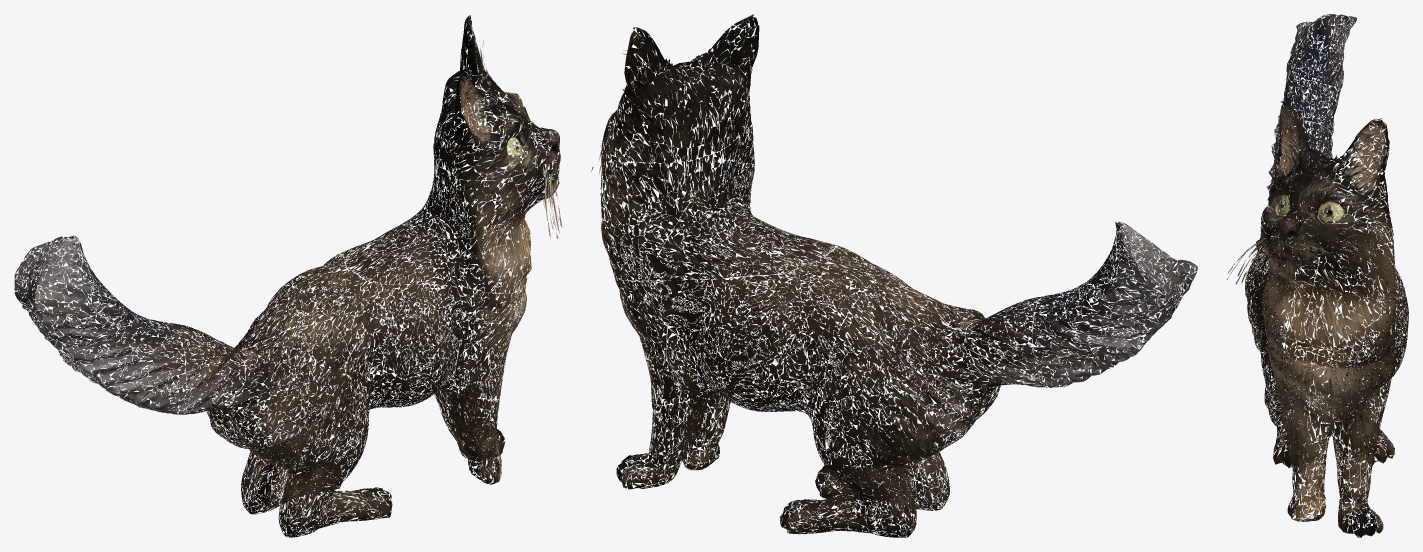
File: cat_fast.glb
The picture shows the model from 3 angles, left to right: view 1: azimuth 30°, elevation 25°; view 2: azimuth 150°, elevation 25°; view 3: azimuth 270°, elevation 25°; orthographic projection. The views are drawn at different scales.
Parts seen in each view (by area): view 1: tripo_node_78cf2532-bfd6-404d-81b4-d5770e189dd6; view 2: tripo_node_78cf2532-bfd6-404d-81b4-d5770e189dd6; view 3: tripo_node_78cf2532-bfd6-404d-81b4-d5770e189dd6.
Part boxes in pixels (x1=…): tripo_node_78cf2532-bfd6-404d-81b4-d5770e189dd6: x1=14, y1=15, x2=562, y2=537; tripo_node_78cf2532-bfd6-404d-81b4-d5770e189dd6: x1=591, y1=14, x2=1197, y2=537; tripo_node_78cf2532-bfd6-404d-81b4-d5770e189dd6: x1=1226, y1=14, x2=1408, y2=537.
Bounding box in the file's own units: 0.5827 × 0.45 × 0.1811.
Materials: 1 (1 with a texture image).
